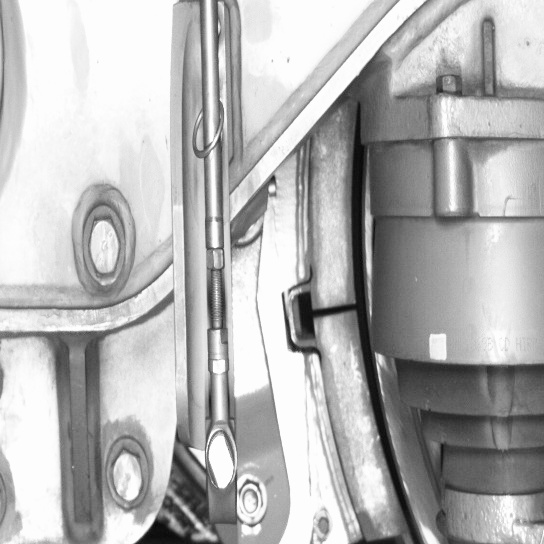KnifeSwitch: (319, 139, 428, 542)
